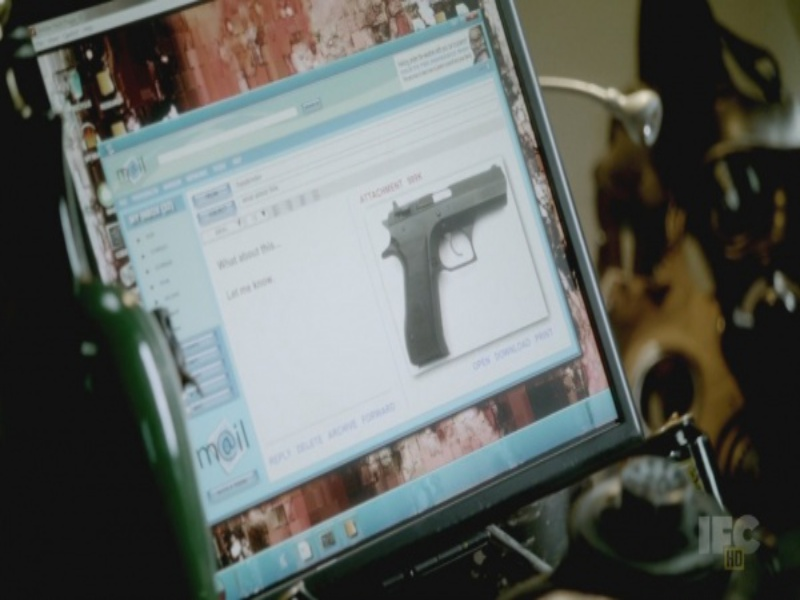weapon: (370, 160, 514, 363)
